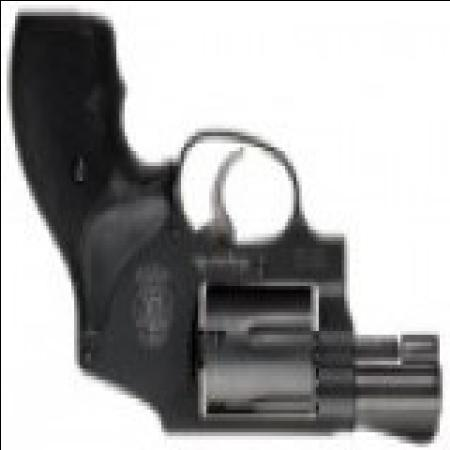Pistol: (26, 23, 431, 442)
